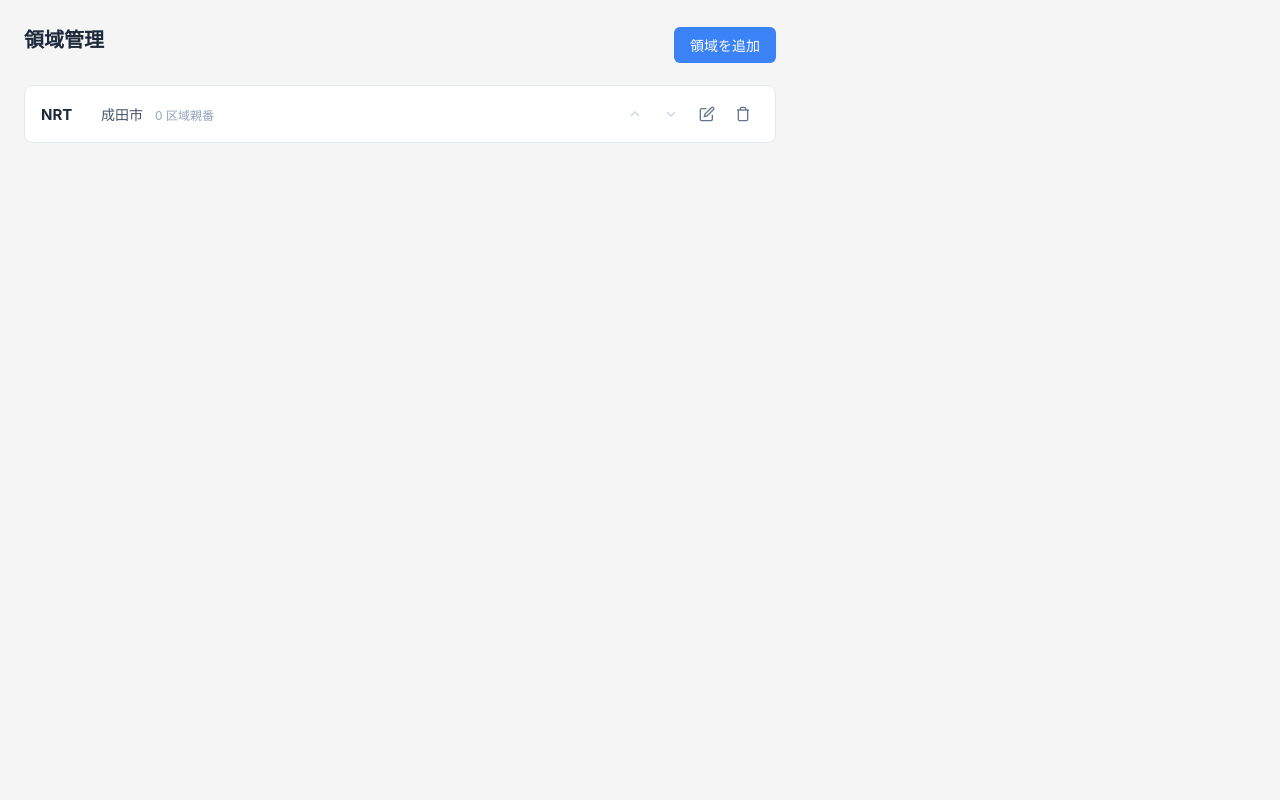
Test: RegionManagementPage › 領域を削除できる（名前と記号の確認入力が必要）
The width and height of the screenshot is (1280, 800).
Click the button named "領域を削除".
click(743, 114)  # box [727,98,759,130]
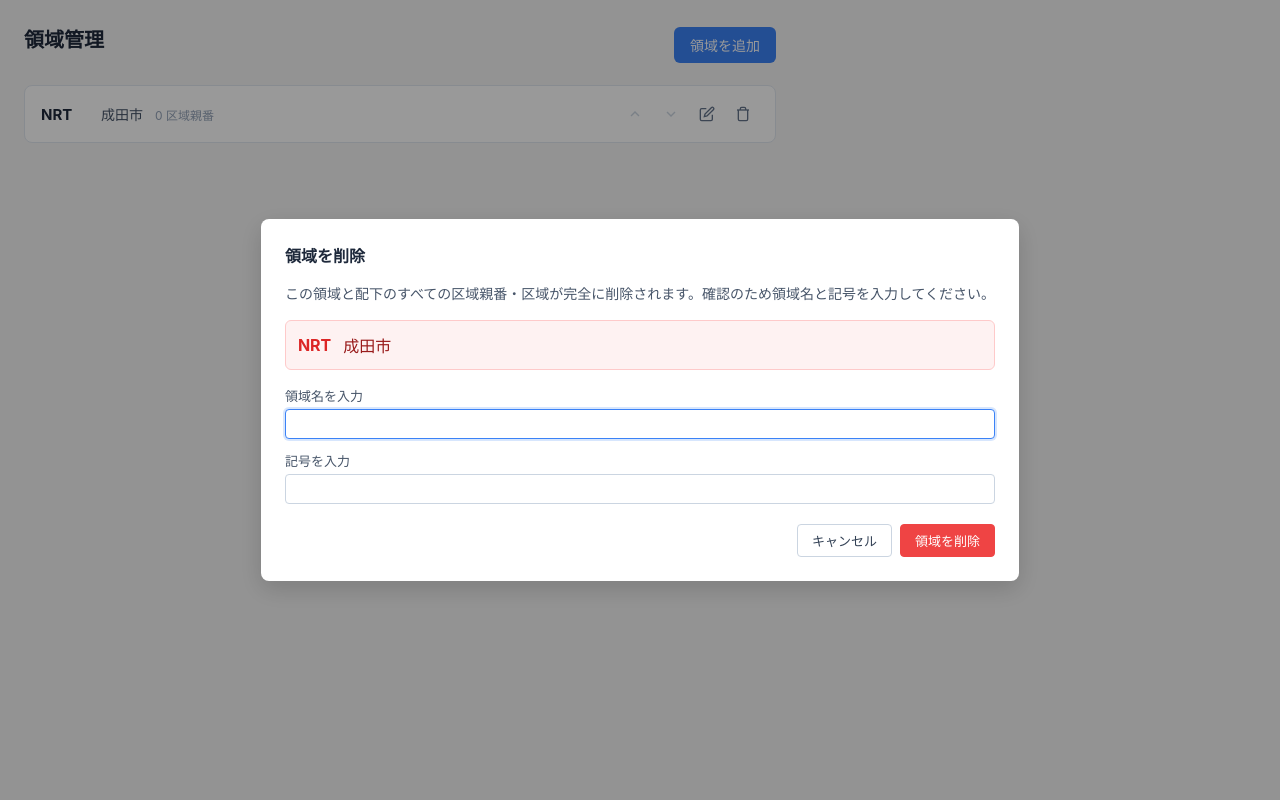
expect the button "領域を削除" is disabled: met, box [900,524,995,557]
Type "成田市" into the field below "領域名を入力".
click(640, 424); type("成田市")  # box [285,409,995,439]
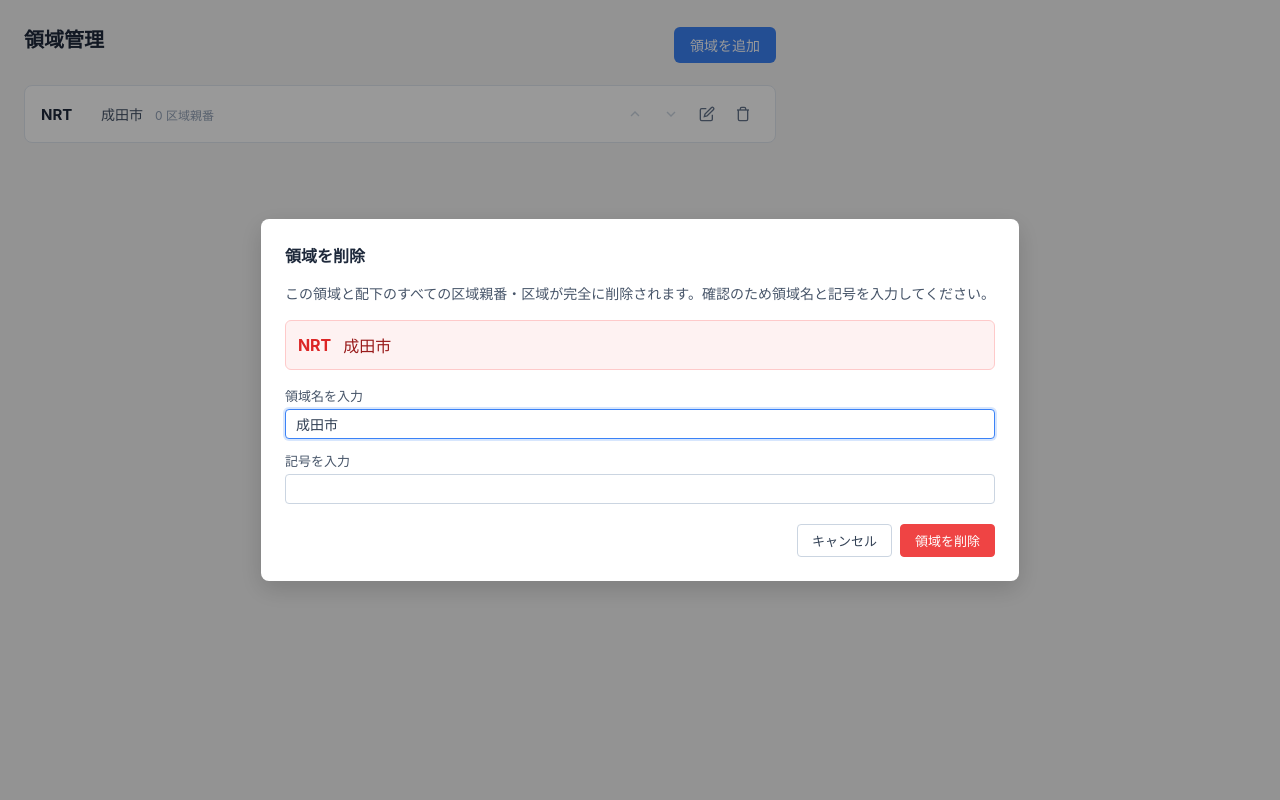
Type "NRT" into the 2nd field.
click(640, 489); type("NRT")  # box [285,474,995,504]
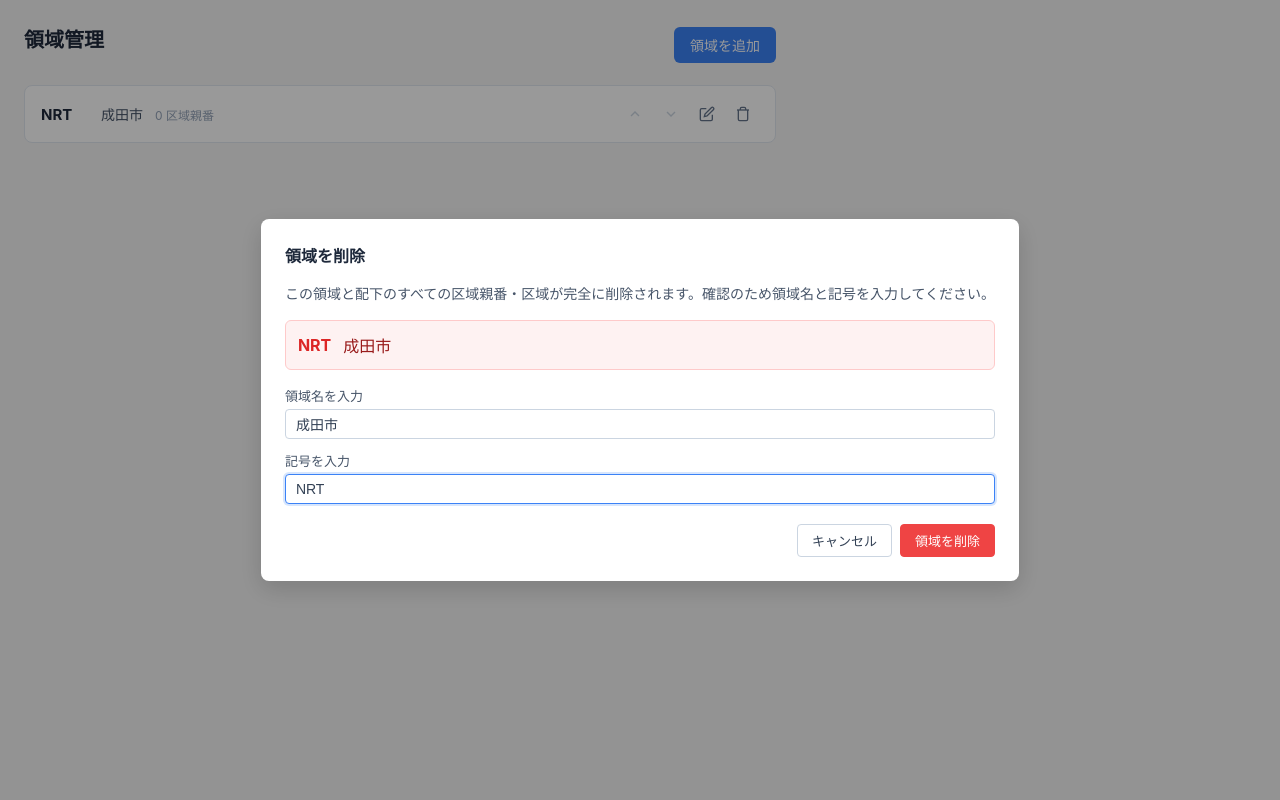
Click the button "領域を削除".
click(948, 540)  # box [900,524,995,557]
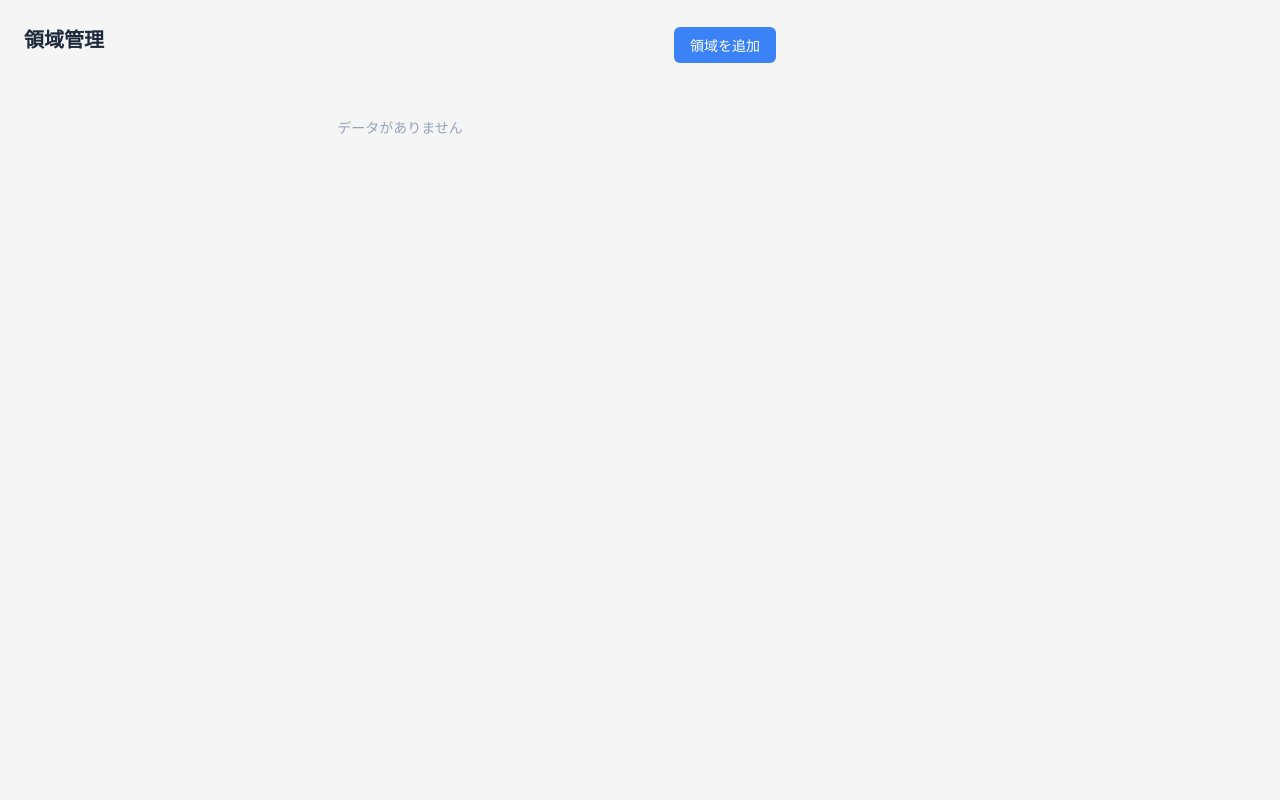
expect the text "データがありません" is shown: met, box [337,119,463,136]
